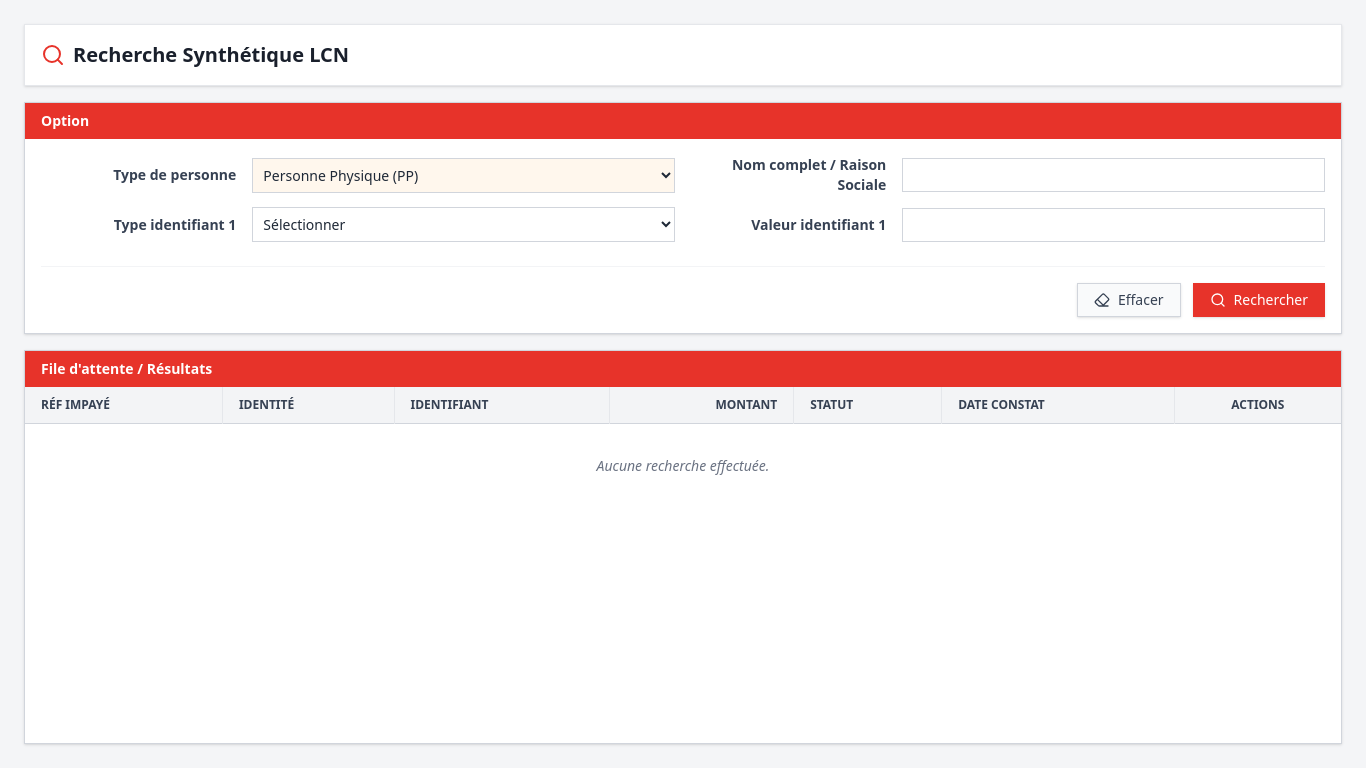
Test case: SearchLcnPage › handles input changes and reset form
This screenshot has width=1366, height=768.
Select "Personne Morale (PM)" in the dropdown next to "Type de personne" at (464, 175), box [252,158,675,192]
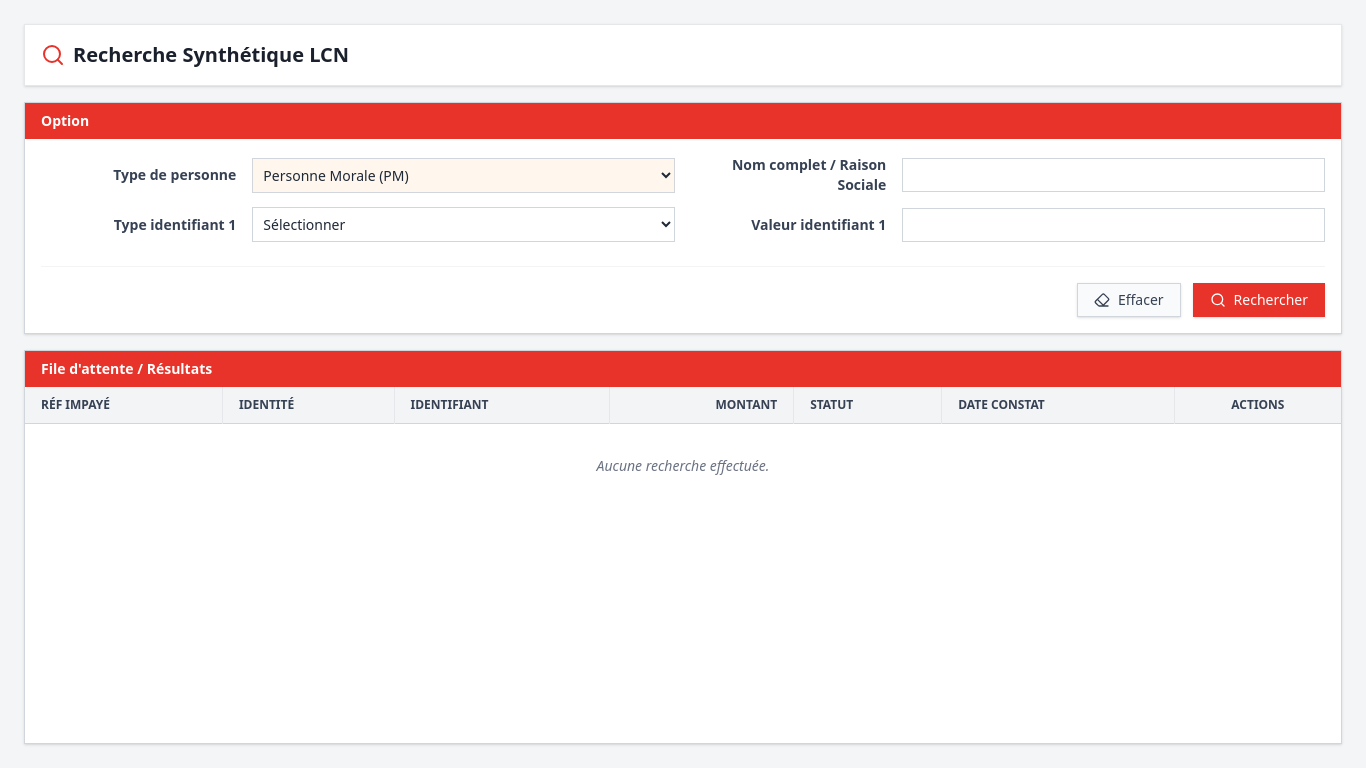
Type "Test Nom" into the field next to "Nom complet / Raison Sociale" at (1114, 175), box [902,158,1325,192]
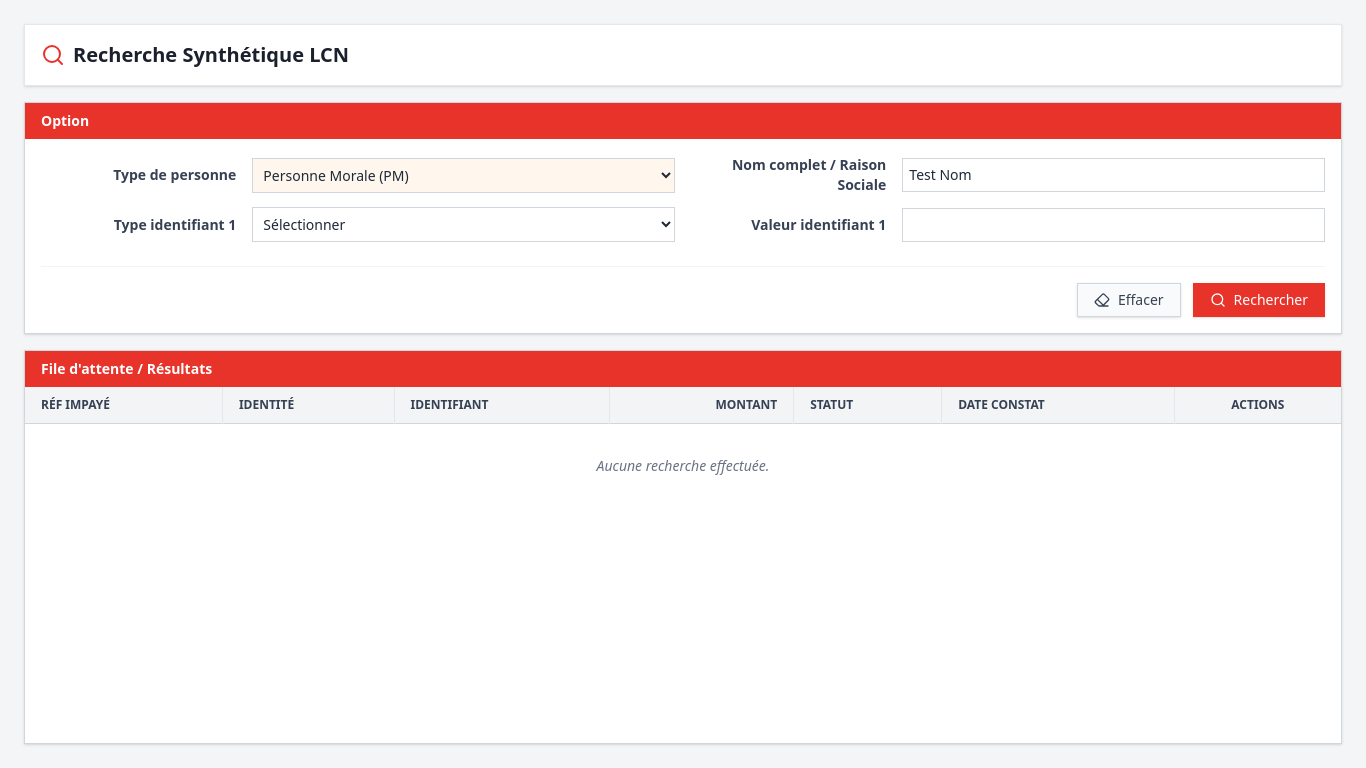
Have to select PM first to make RC available if the form logic depends on it, but we did!
Select "RC" in the dropdown next to "Type identifiant 1" at (464, 224), box [252,207,675,242]
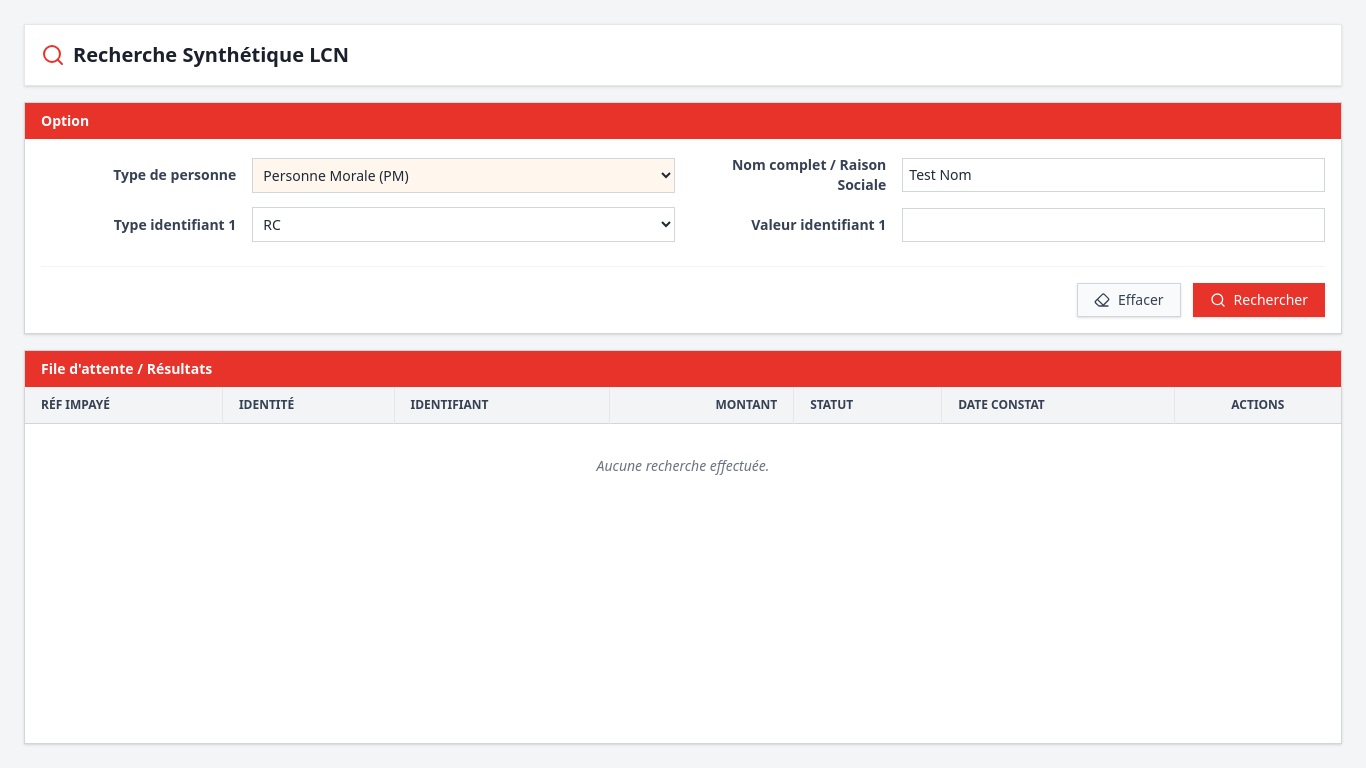
Type "123" into the field next to "Valeur identifiant 1" at (1114, 224), box [902,208,1325,242]
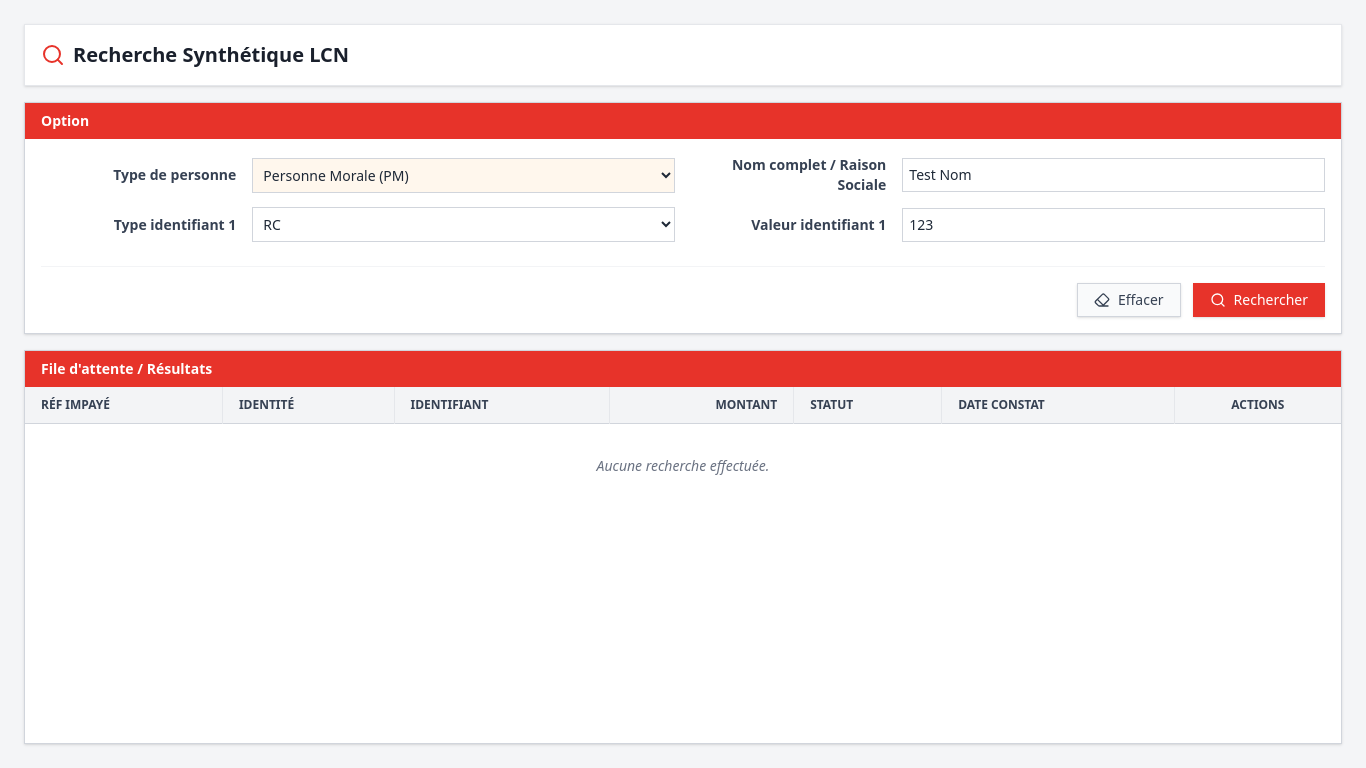
Click the button "Effacer" at (1129, 300), box [1077,283,1181,317]
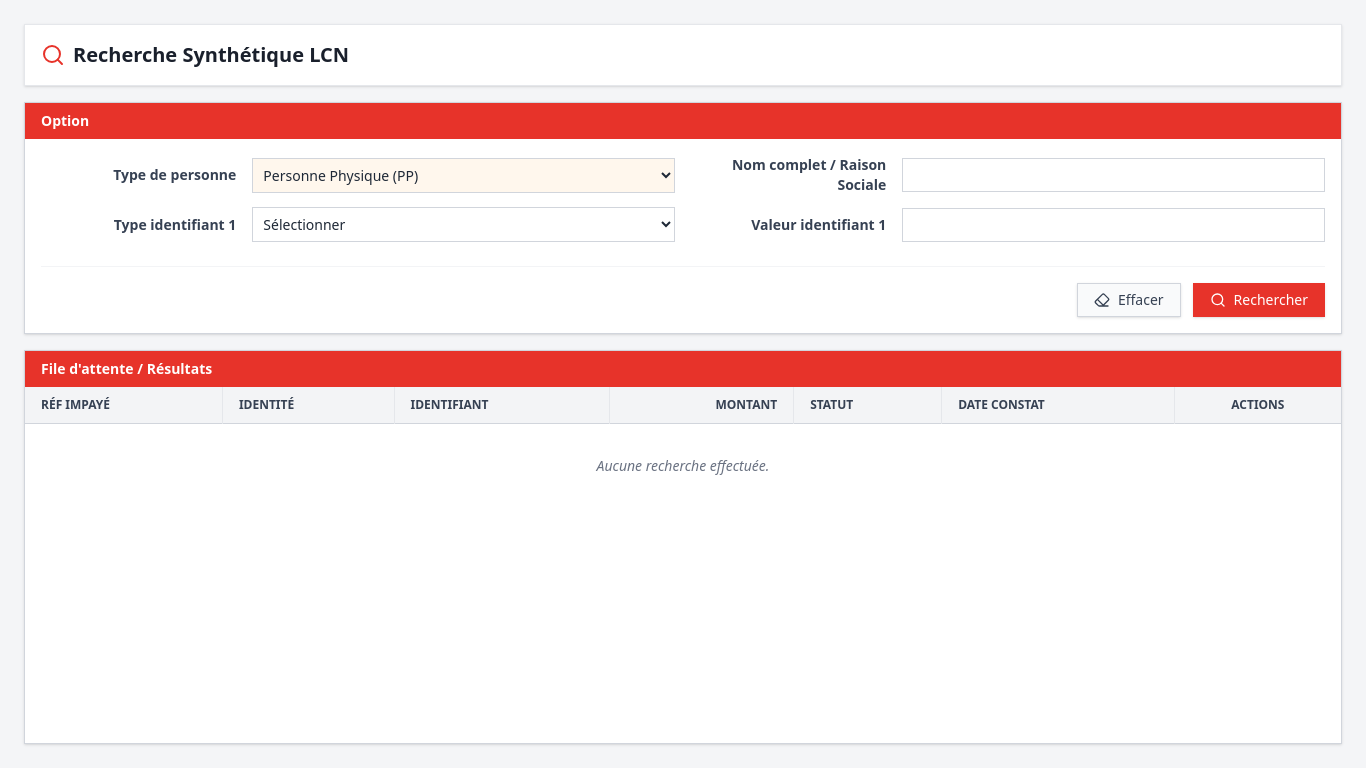
Expected: the field next to "Nom complet / Raison Sociale" is empty, [902,158,1325,192]
Expected: the field next to "Valeur identifiant 1" is empty, [902,208,1325,242]
